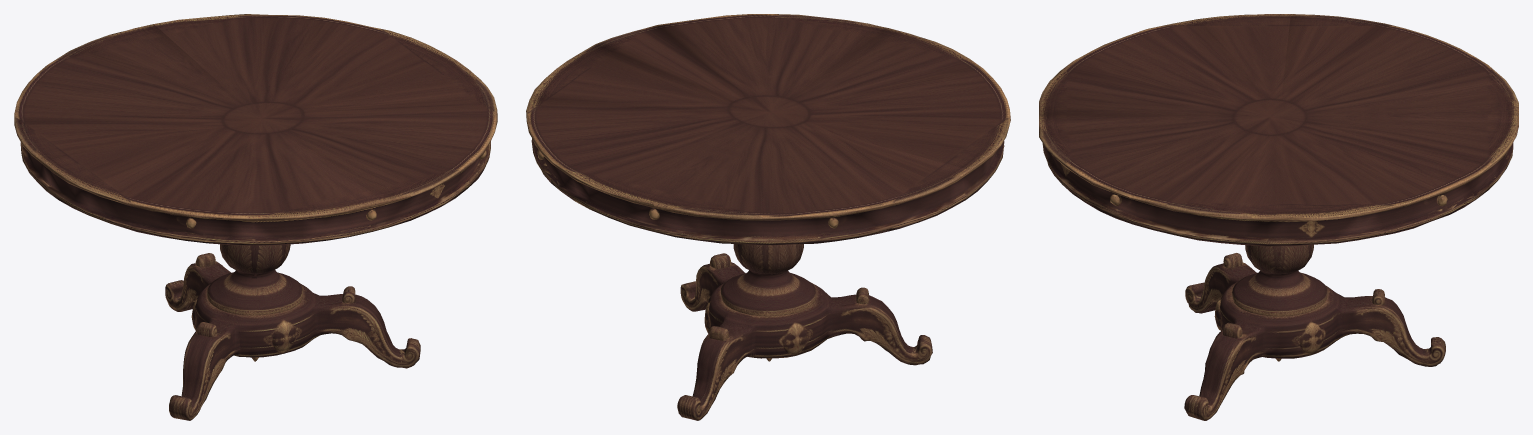
Rendered from rrr_prop_table-round_v1.glb.
The picture shows the model from 3 angles, left to right: view 1: azimuth 30°, elevation 25°; view 2: azimuth 150°, elevation 25°; view 3: azimuth 270°, elevation 25°; orthographic projection.
Visible parts, largest first — view 1: Mesh_0; view 2: Mesh_0; view 3: Mesh_0.
Part boxes in pixels (box(x1,y1,x2,y2)): Mesh_0: box(14, 14, 497, 420); Mesh_0: box(526, 14, 1010, 420); Mesh_0: box(1039, 14, 1518, 420).
Size of the model in its own units: 1.31 by 0.75 by 1.31.
1 material, 1 textured.
